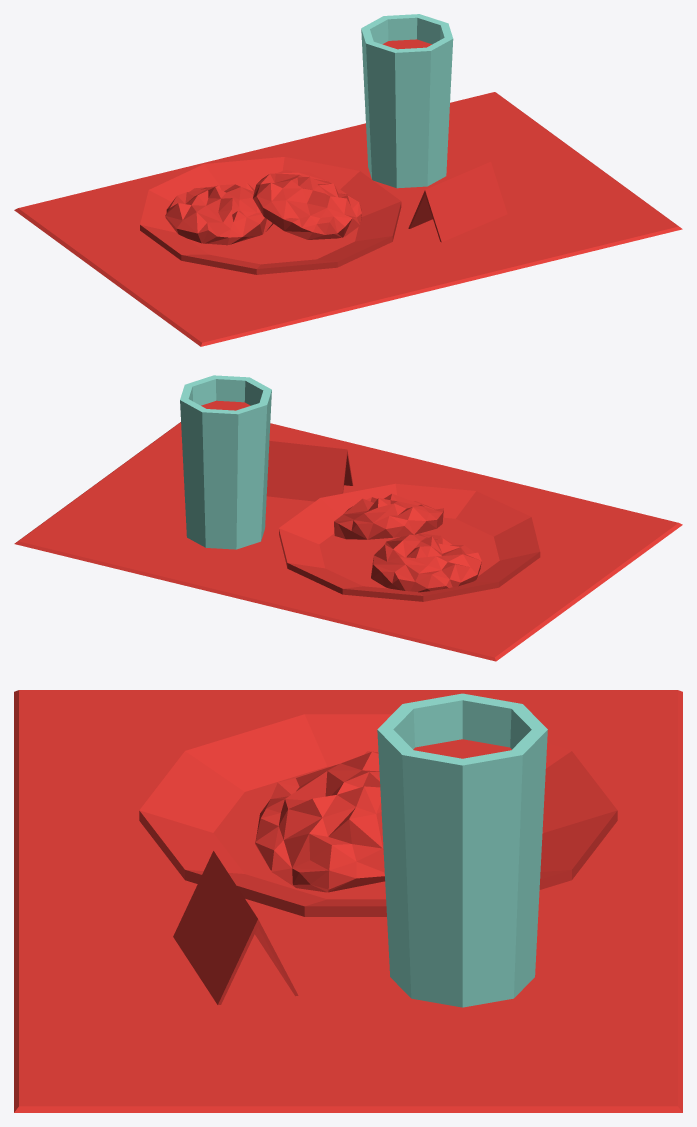
Rendered from SM_Santa_Milk_And_Cookies.fbx.
3 views of the same model, one above another, from view 1: azimuth 30°, elevation 25°; view 2: azimuth 150°, elevation 25°; view 3: azimuth 270°, elevation 25° (orthographic). The views are drawn at different scales.
Visible parts, largest first — view 1: santa-milk-and-cookies; view 2: santa-milk-and-cookies; view 3: santa-milk-and-cookies.
Part boxes in pixels (x1,y1,x2,y2): santa-milk-and-cookies: (14,14,682,346); santa-milk-and-cookies: (14,375,682,661); santa-milk-and-cookies: (14,690,682,1112).
Bounding box in the file's own units: 0.4389 × 0.1225 × 0.2947.
